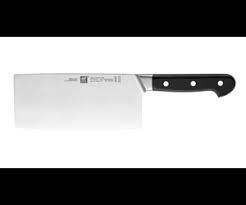Knife: (13, 72, 235, 129)
